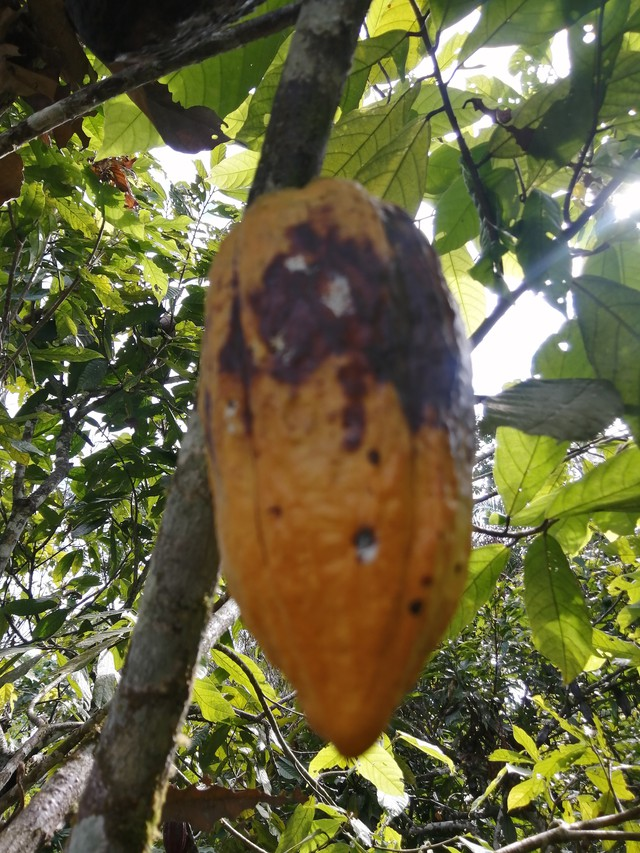moniliophthora perniciosa: (195, 166, 483, 772)
